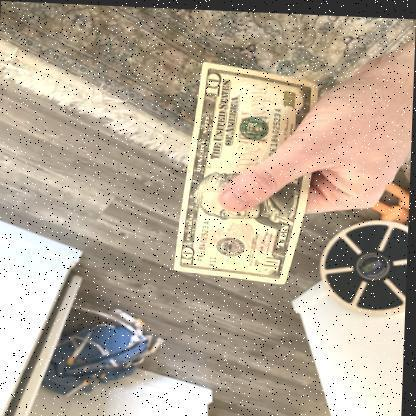ten-front: (175, 58, 320, 282)
